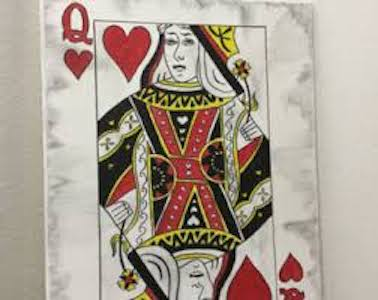QueenOfHearts: (40, 1, 326, 300)
